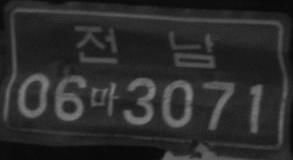0: (15, 71, 50, 118), (161, 78, 194, 126)
1: (242, 83, 270, 134)
3: (122, 76, 158, 125)
6: (52, 74, 86, 123)
7: (200, 80, 237, 133)
마: (89, 81, 120, 117)
전남_D: (73, 24, 217, 70)
